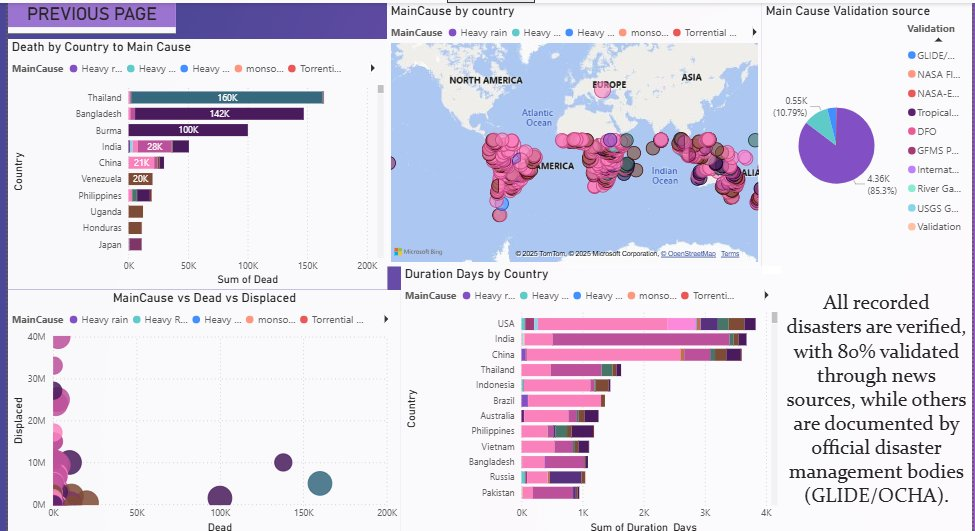

This screenshot's page, from the dashboard's own definition file:
{"tool":"powerbi","page":{"name":"Page 2","canvas":[1280,720],"ordinal":1},"visuals":[{"type":"scatterChart","title":"MainCause vs Dead vs Displaced","fields":{"X":["flood_data_cleaned.Dead"],"Y":["flood_data_cleaned.Displaced"],"Size":["Avg(flood_data_cleaned.Severity)"],"Series":["flood_data_cleaned.MainCause"]},"box":[0,381.3,522.1,328.1],"z":0},{"type":"barChart","title":"Duration Days by Country","fields":{"Y":["Sum(flood_data_cleaned.Duration_Days)"],"Category":["flood_data_cleaned.Country"],"Series":["flood_data_cleaned.MainCause"]},"box":[522.1,349.4,504.8,360],"z":1000},{"type":"map","title":"MainCause by country","fields":{"Y":["flood_data_cleaned.Latitude"],"X":["flood_data_cleaned.Longitude"],"Size":["Sum(flood_data_cleaned.Severity)"],"Series":["flood_data_cleaned.MainCause"]},"box":[503.7,0,498.2,349.6],"z":2000},{"type":"barChart","title":"Death by Country to Main Cause","fields":{"Category":["flood_data_cleaned.Country"],"Y":["Sum(flood_data_cleaned.Dead)"],"Series":["flood_data_cleaned.MainCause"]},"box":[0,48.2,503.7,333.1],"z":3000},{"type":"pieChart","title":"Main Cause Validation source","fields":{"Category":["flood_data_cleaned.Validation"],"Y":["CountNonNull(flood_data_cleaned.MainCause)"]},"box":[1001.6,0,279,360],"z":4000},{"type":"textbox","box":[1026.9,360,253.7,360],"z":5000},{"type":"actionButton","title":"PREVIOUS PAGE","box":[0,0,223,41.3],"z":6000}]}

Visuals, with their boxes on the page's 1280x720 design canvas (x1, y1, x2, y2). These are canvas units, not pixel positions in the 975x531 screenshot, which may show the page scaled, cropped or inside an application window:
"MainCause vs Dead vs Displaced" scatterChart: <bbox>0, 381, 522, 709</bbox>
"Duration Days by Country" barChart: <bbox>522, 349, 1027, 709</bbox>
"MainCause by country" map: <bbox>504, 0, 1002, 350</bbox>
"Death by Country to Main Cause" barChart: <bbox>0, 48, 504, 381</bbox>
"Main Cause Validation source" pieChart: <bbox>1002, 0, 1281, 360</bbox>
textbox: <bbox>1027, 360, 1281, 720</bbox>
"PREVIOUS PAGE" actionButton: <bbox>0, 0, 223, 41</bbox>
